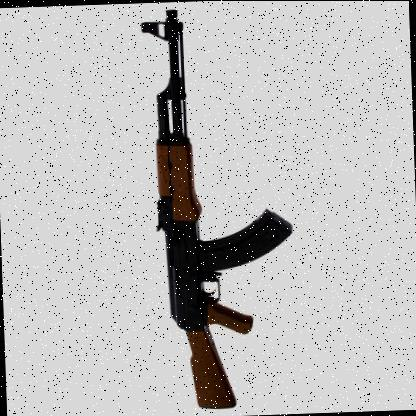rifle: (123, 3, 313, 409)
